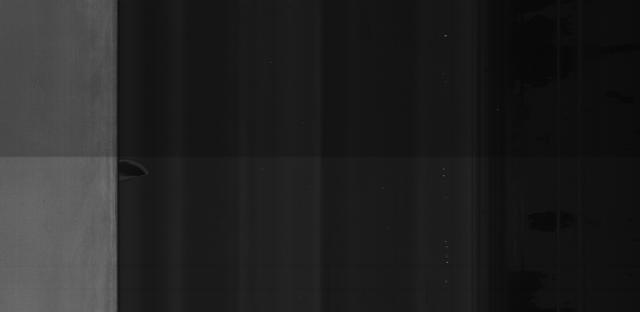welding_line: (3, 150, 131, 166)
